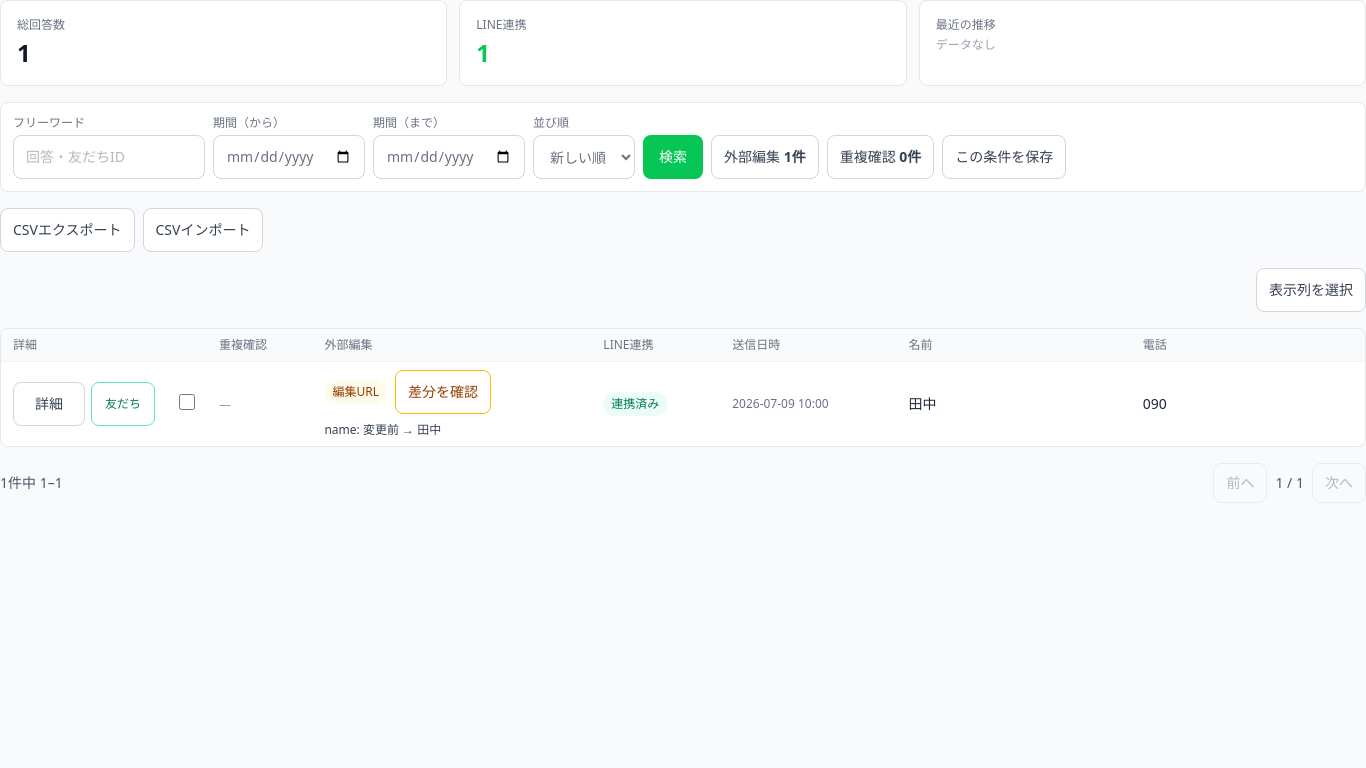
Test: DataCockpit — 外部編集レビュー (D-3) › 確認ポップアップを閉じるだけでは API を呼ばず、未承認の行と件数を保つ
This screenshot has width=1366, height=768.
Click the button with aria-label "s1 の外部編集を確認".
click(443, 392)  # box 395,370 -> 491,414
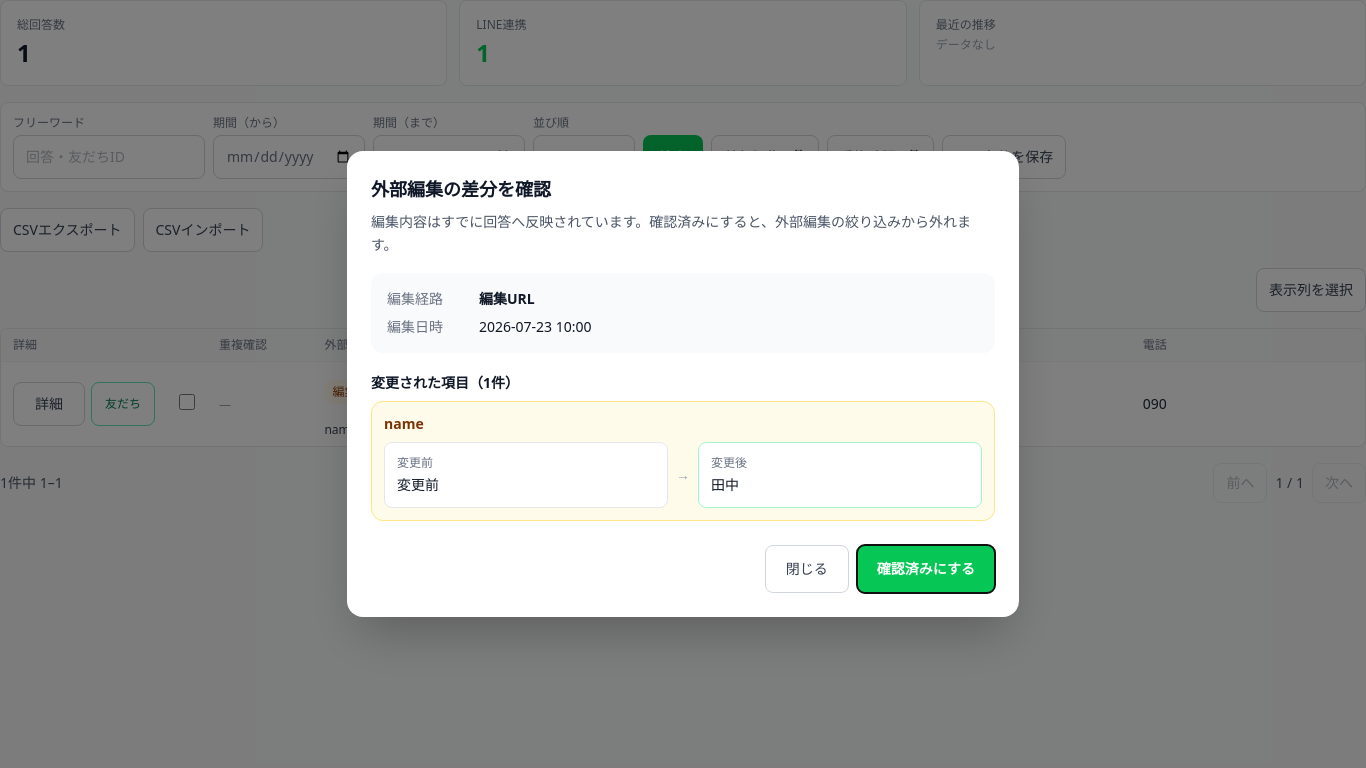
Click the button "閉じる".
click(807, 569)  # box 765,545 -> 849,593
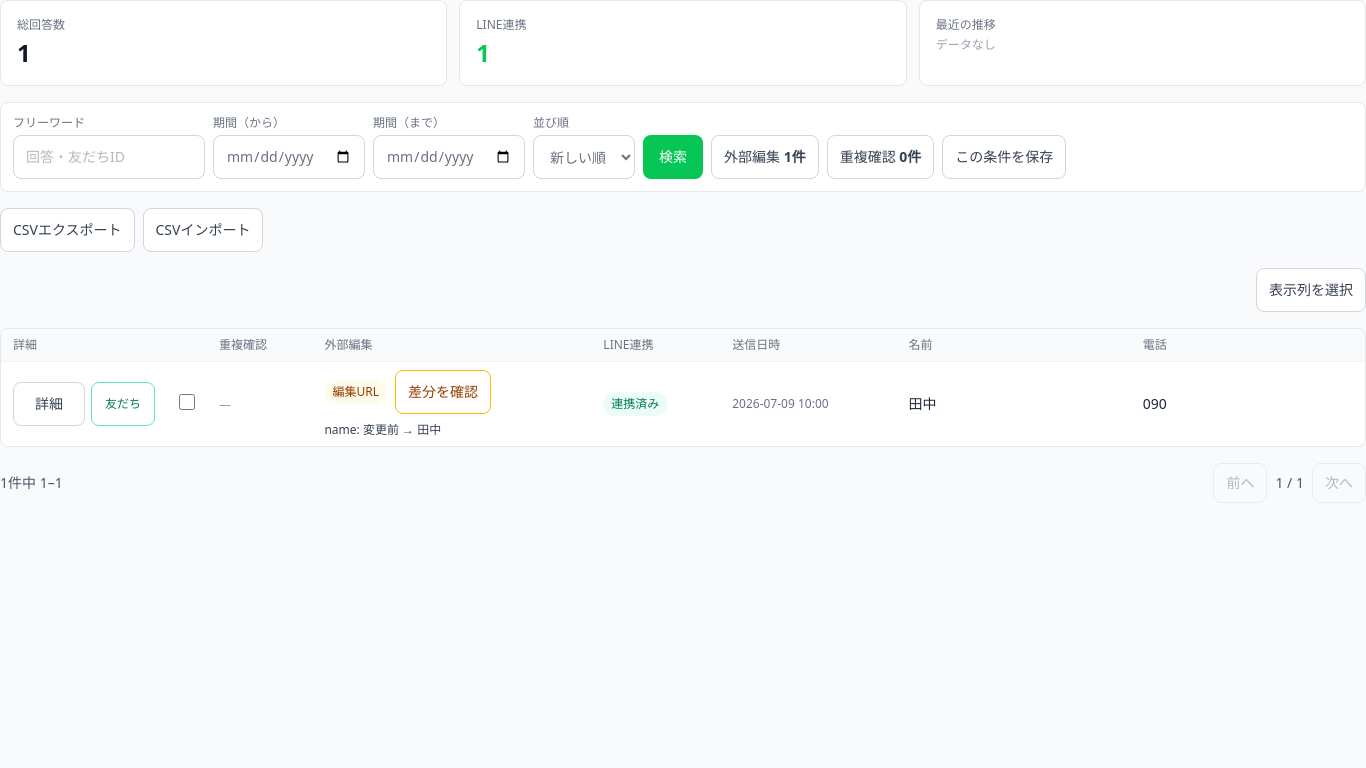
Check: the button with aria-label "s1 の詳細" is shown, box 13,382 -> 85,426
Check: the heading "外部編集の差分を確認" is gone
